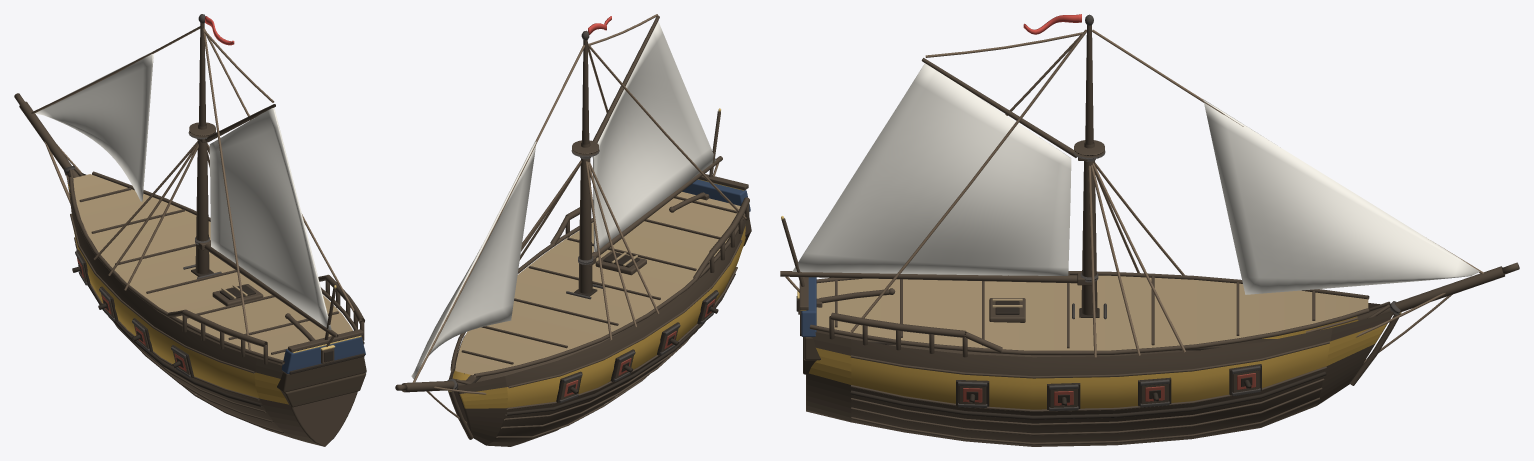
File: sloop.glb
3 renders of one model, left to right at view 1: azimuth 30°, elevation 25°; view 2: azimuth 150°, elevation 25°; view 3: azimuth 270°, elevation 25°, orthographic. The views are drawn at different scales.
Visible parts, largest first — view 1: Deck, Sail_Main_Gaff, HullMesh, Sail_Bowsprit, Sterncastle, Rigging_Main, Mast_Main, Railings, Gunports, Yard_Main_Gaff, Bowsprit; view 2: Deck, HullMesh, Sail_Main_Gaff, Sail_Bowsprit, Rigging_Main, Mast_Main, Gunports, Sterncastle, Yard_Main_Gaff, Railings, Bowsprit; view 3: HullMesh, Sail_Main_Gaff, Deck, Sail_Bowsprit, Rigging_Main, Gunports, Mast_Main, Yard_Main_Gaff, Railings, Sterncastle, Bowsprit, Rigging_Bowsprit.
Boxes of the visible parts, box(x1,y1,x2,y2) form: Deck: box(68, 171, 364, 364); Sail_Main_Gaff: box(209, 108, 331, 330); HullMesh: box(66, 168, 357, 446); Sail_Bowsprit: box(35, 51, 153, 201); Sterncastle: box(277, 285, 366, 407); Rigging_Main: box(31, 26, 359, 350); Mast_Main: box(188, 14, 216, 273); Railings: box(167, 274, 364, 364); Gunports: box(75, 249, 193, 377); Yard_Main_Gaff: box(196, 104, 338, 338); Bowsprit: box(14, 93, 79, 177); Deck: box(450, 192, 745, 377); HullMesh: box(448, 219, 745, 446); Sail_Main_Gaff: box(592, 21, 716, 252); Sail_Bowsprit: box(411, 141, 536, 379); Rigging_Main: box(412, 14, 746, 382); Mast_Main: box(571, 30, 599, 293); Gunports: box(464, 290, 718, 403); Sterncastle: box(682, 108, 751, 250); Yard_Main_Gaff: box(580, 15, 722, 266); Railings: box(550, 197, 749, 279); Bowsprit: box(395, 379, 471, 392); HullMesh: box(806, 301, 1401, 446); Sail_Main_Gaff: box(792, 63, 1071, 275); Deck: box(809, 271, 1369, 355); Sail_Bowsprit: box(1203, 99, 1479, 294); Rigging_Main: box(785, 29, 1483, 357); Gunports: box(956, 364, 1261, 410); Mast_Main: box(1074, 14, 1105, 315); Yard_Main_Gaff: box(780, 58, 1095, 285); Railings: box(829, 277, 1002, 357); Sterncastle: box(781, 216, 834, 374); Bowsprit: box(1357, 262, 1519, 320); Rigging_Bowsprit: box(1305, 293, 1452, 363).
Bounding box in the file's own units: 1.42 × 3.14 × 4.88.
